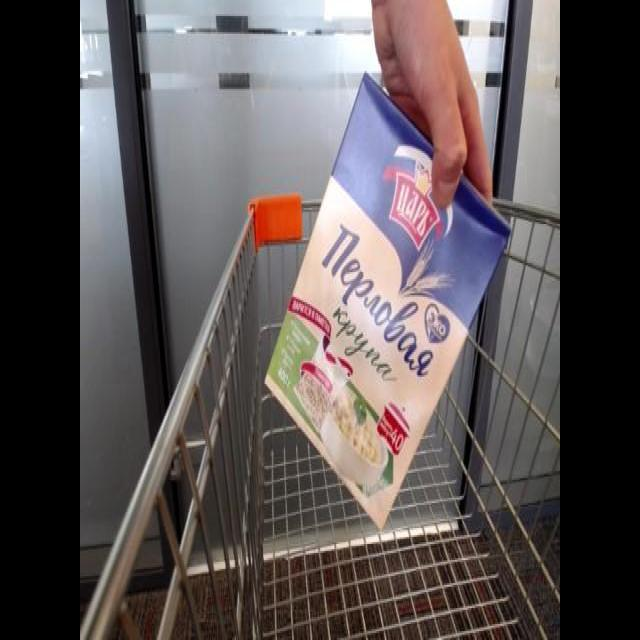Groats: (261, 68, 514, 540)
